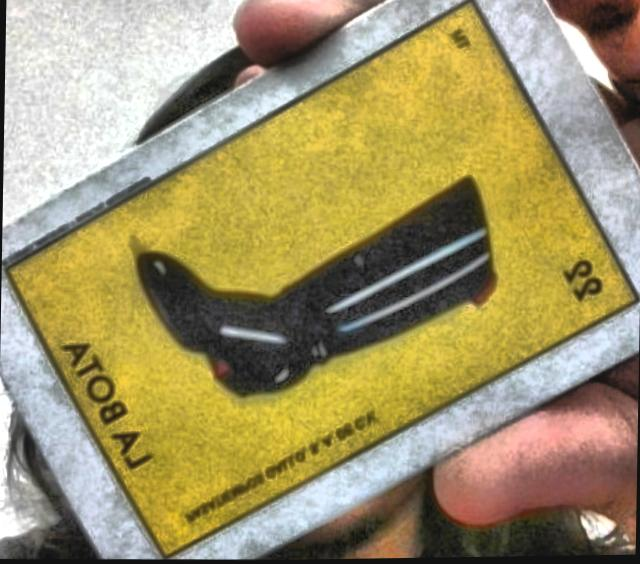La Bota: (3, 4, 633, 556)
